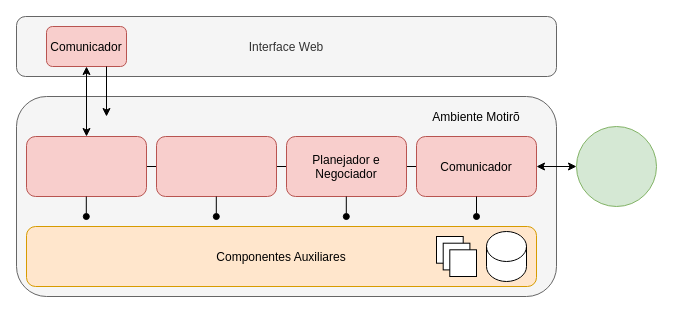
Some shapes in this 673 by 313 pixel diagram are drawn without their labels. Each missing label, with the centre of its shape:
Apresentador (Facade): point (86, 166)
Gerenciador: point (216, 166)
Sistemas Externos: point (616, 166)
